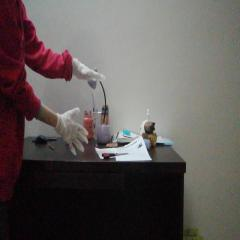gloved: (58, 107, 90, 156), (74, 56, 107, 80)
